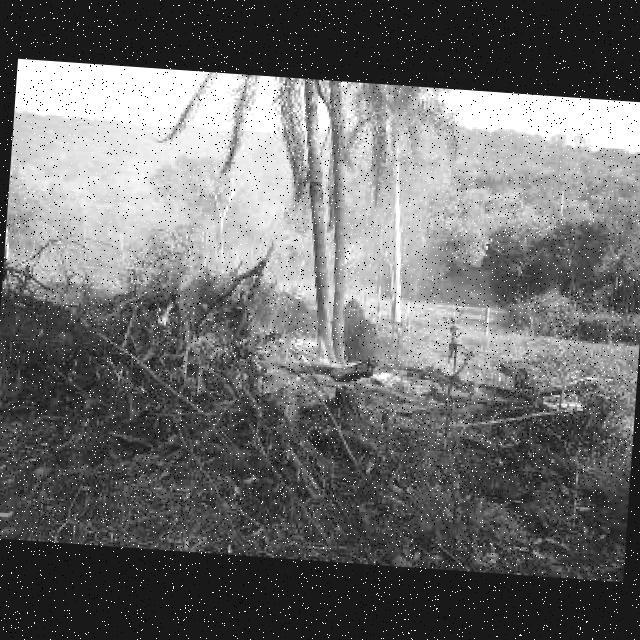Fire: (151, 292, 182, 340), (187, 329, 229, 358)
